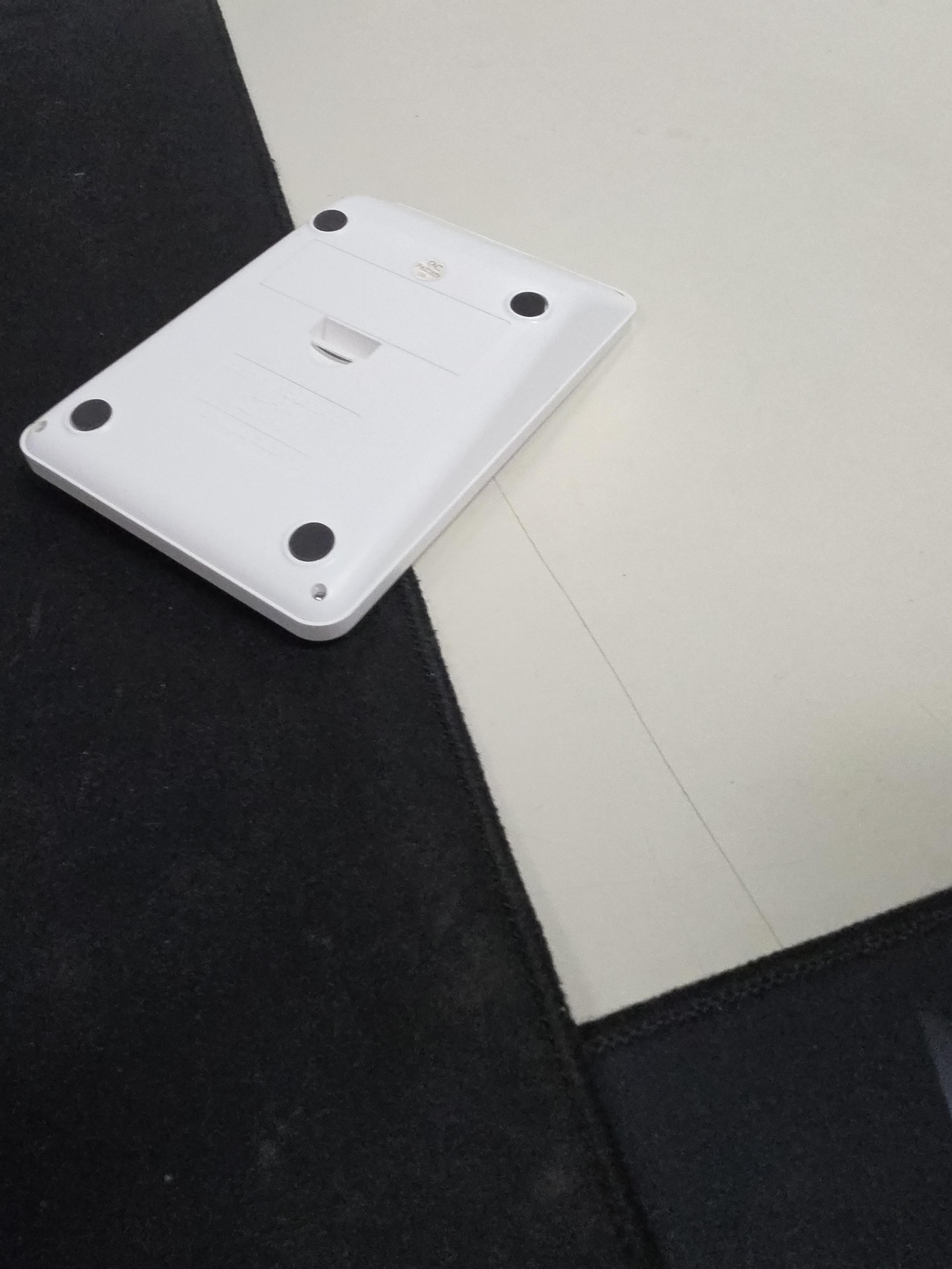calculator: (19, 194, 638, 641)
